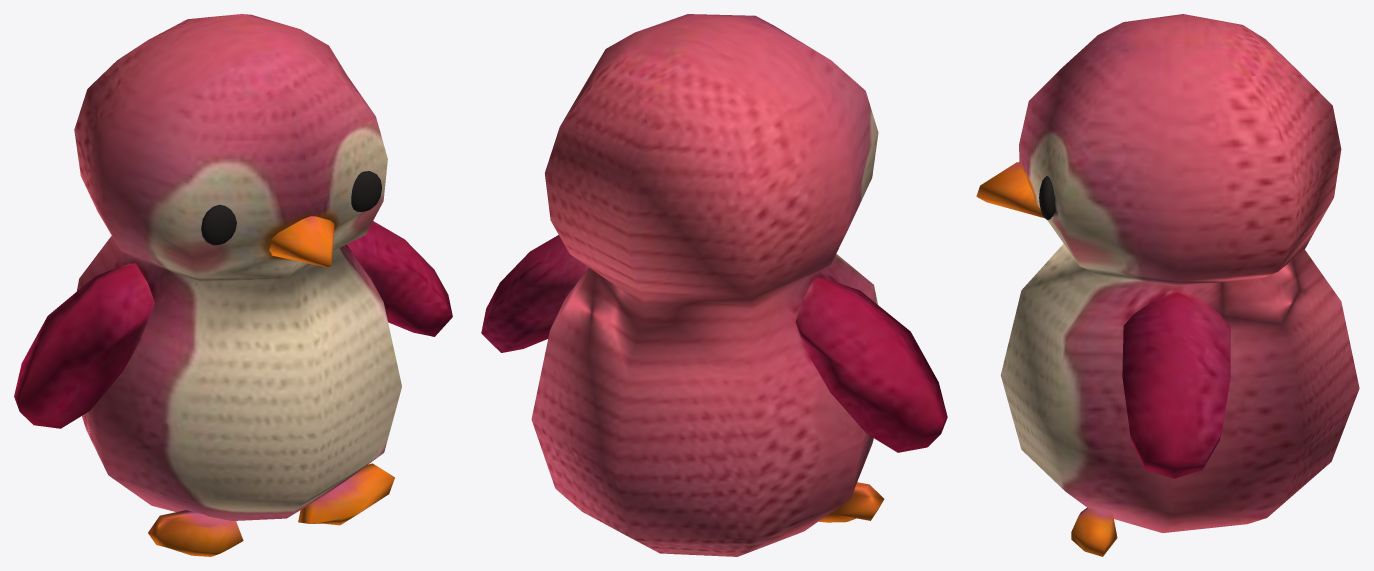
Rendered from penguin-04-32-blush-cheek-crochet-penguin.gltf.
3 views of the same model, side by side, from view 1: azimuth 30°, elevation 25°; view 2: azimuth 150°, elevation 25°; view 3: azimuth 270°, elevation 25° (orthographic). The views are drawn at different scales.
Parts seen in each view (by area): view 1: penguin-04-32-blush-cheek-crochet-penguin; view 2: penguin-04-32-blush-cheek-crochet-penguin; view 3: penguin-04-32-blush-cheek-crochet-penguin.
Boxes of the visible parts, x1,y1,x2,y2 form: penguin-04-32-blush-cheek-crochet-penguin: [14, 14, 452, 556]; penguin-04-32-blush-cheek-crochet-penguin: [481, 14, 947, 556]; penguin-04-32-blush-cheek-crochet-penguin: [976, 14, 1359, 556].
Size of the model in its own units: 0.2 by 0.2135 by 0.1518.
2 materials, 1 textured.
